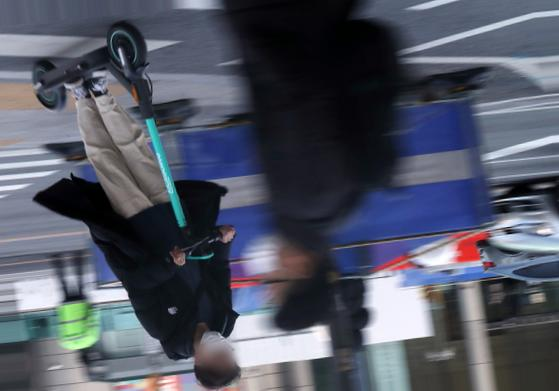scooter: (31, 21, 235, 265)
